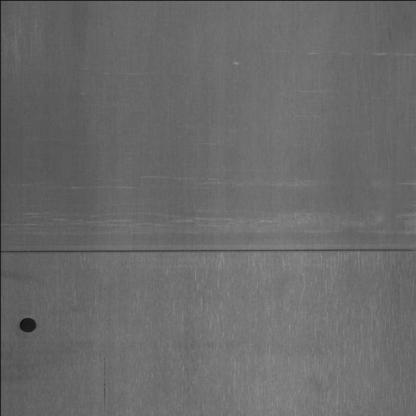punching_hole: (17, 313, 40, 337)
welding_line: (0, 241, 414, 268)
